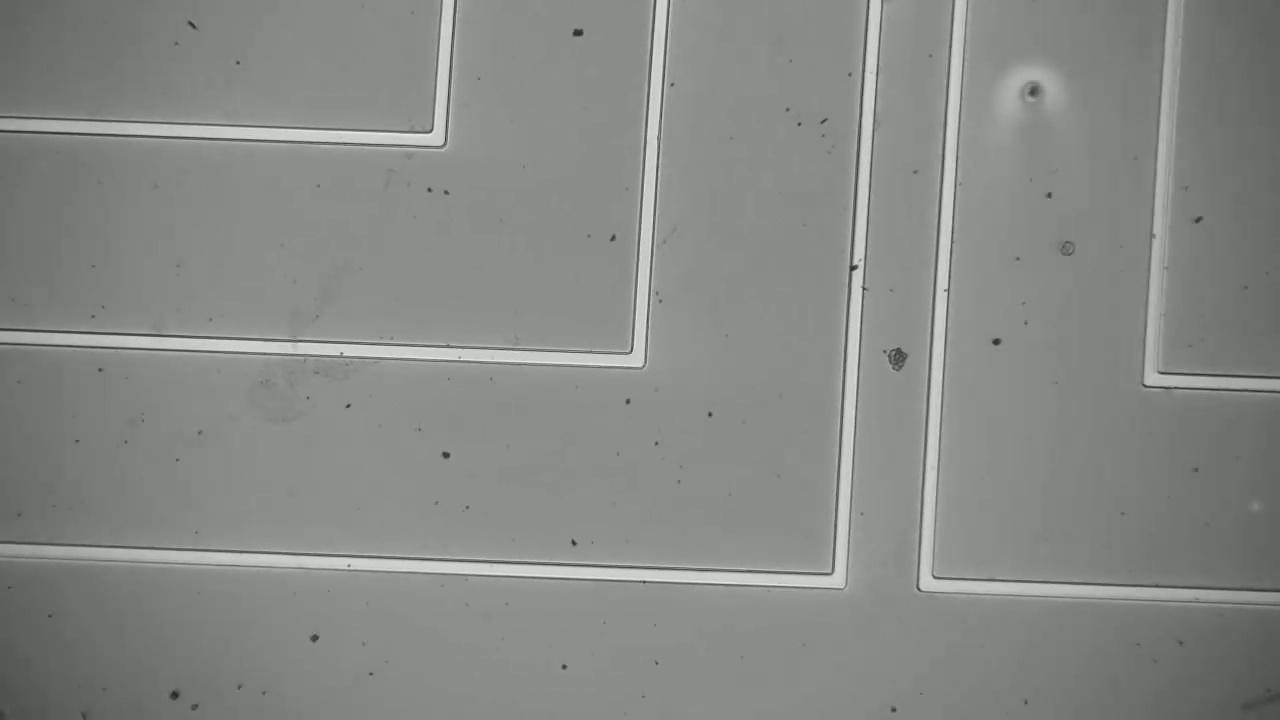stains_enbedded: (842, 258, 870, 277)
